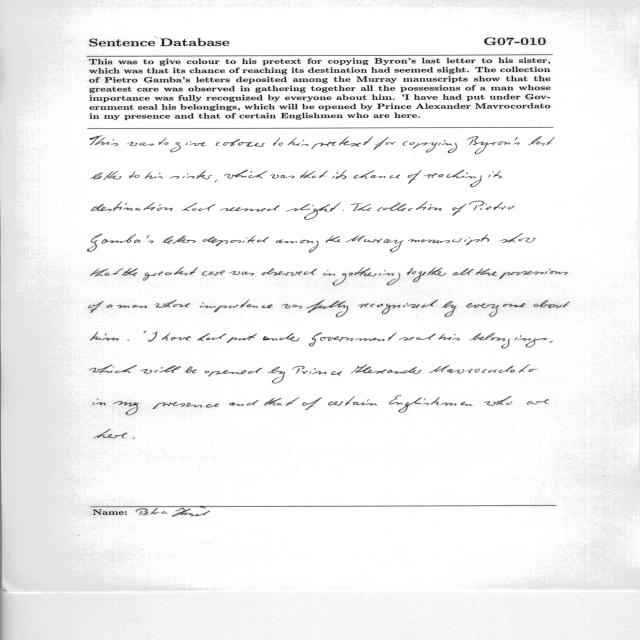word: (403, 137, 497, 155), (364, 237, 470, 252), (389, 395, 473, 413), (333, 267, 413, 285), (309, 333, 397, 347), (470, 333, 547, 349), (424, 170, 494, 187), (88, 234, 154, 252), (276, 235, 341, 253), (359, 300, 438, 314), (331, 365, 422, 376), (286, 202, 341, 220), (430, 365, 538, 374), (200, 300, 273, 312), (467, 303, 526, 317), (268, 366, 316, 383), (92, 202, 173, 212), (311, 137, 373, 150), (202, 236, 269, 247), (143, 267, 198, 280), (306, 300, 348, 317), (499, 269, 568, 279), (377, 202, 442, 212), (412, 267, 445, 282), (328, 396, 377, 406), (209, 368, 263, 377), (453, 201, 485, 216), (153, 402, 219, 409), (140, 366, 197, 374), (262, 268, 317, 276), (90, 364, 137, 373), (220, 205, 280, 212), (354, 170, 400, 179), (170, 141, 206, 152), (224, 170, 268, 179), (216, 139, 265, 147), (170, 171, 212, 180), (113, 401, 139, 415), (500, 233, 536, 243), (264, 397, 300, 406), (162, 235, 196, 244), (94, 429, 127, 438), (533, 300, 570, 308), (263, 333, 300, 341), (374, 137, 396, 150), (90, 136, 118, 146), (480, 202, 515, 210), (155, 300, 190, 308), (484, 396, 512, 406), (182, 203, 216, 211), (91, 171, 121, 180), (227, 334, 257, 343), (91, 268, 124, 276), (529, 136, 555, 146), (302, 397, 322, 410), (399, 334, 436, 341), (466, 234, 489, 245), (300, 170, 328, 179), (91, 332, 119, 341), (442, 301, 457, 317), (161, 333, 191, 341), (197, 333, 226, 341), (408, 170, 421, 184), (498, 137, 520, 145), (230, 400, 259, 406), (288, 138, 309, 146), (476, 268, 497, 276), (89, 301, 103, 313), (351, 204, 371, 212), (453, 269, 474, 276), (346, 236, 366, 243), (438, 334, 460, 340), (527, 399, 549, 405), (145, 172, 163, 179), (333, 170, 347, 179), (229, 271, 254, 276), (270, 174, 294, 179), (122, 268, 137, 276), (202, 271, 225, 276), (127, 142, 154, 146), (282, 304, 302, 309), (148, 332, 158, 342), (93, 399, 106, 406), (117, 305, 147, 308), (273, 138, 283, 146), (493, 171, 502, 179), (323, 270, 335, 276), (159, 138, 169, 145), (130, 172, 140, 179), (313, 371, 327, 375), (107, 304, 113, 308), (205, 371, 209, 374), (215, 180, 217, 183), (550, 341, 553, 343), (144, 331, 146, 333), (128, 340, 130, 341), (133, 438, 135, 439), (343, 210, 344, 211)
